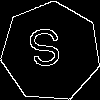S: (26, 26, 66, 77)
